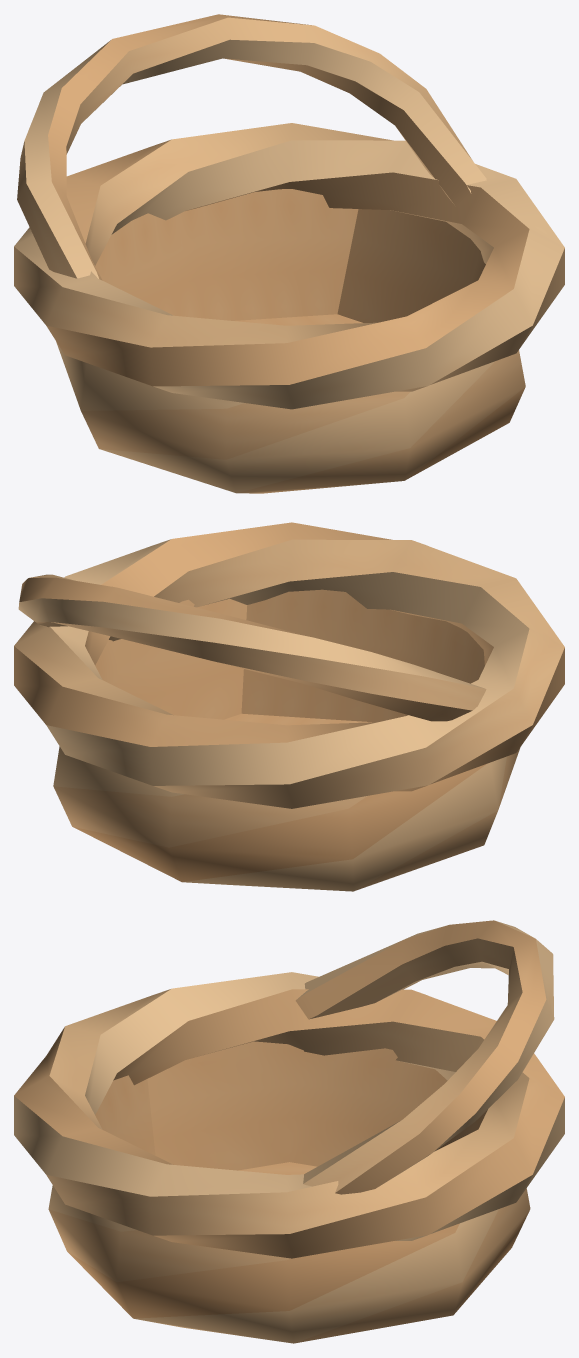
The model's file is Food_Basket_B_Empty.gltf.
3 views of the same model, one above another, from view 1: azimuth 30°, elevation 25°; view 2: azimuth 150°, elevation 25°; view 3: azimuth 270°, elevation 25° (orthographic).
Parts seen in each view (by area): view 1: Food_Basket_B_Empty; view 2: Food_Basket_B_Empty; view 3: Food_Basket_B_Empty.
Part boxes in pixels (<box>): Food_Basket_B_Empty: <box>14,14,564,493</box>; Food_Basket_B_Empty: <box>14,522,564,891</box>; Food_Basket_B_Empty: <box>14,920,564,1343</box>.
Size of the model in its own units: 0.9436 by 0.5757 by 0.9252.
1 material, 1 textured.
